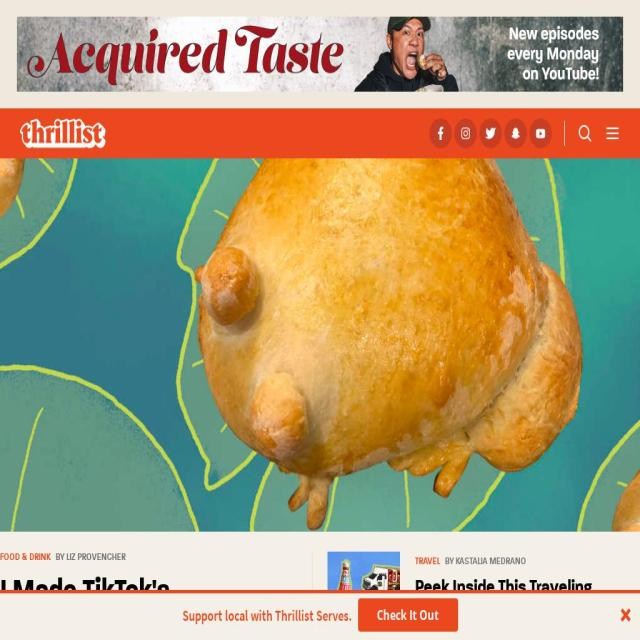button: (0, 590, 640, 640), (0, 572, 292, 640), (20, 110, 427, 157), (414, 575, 620, 640), (327, 551, 400, 640), (358, 598, 458, 632), (444, 552, 526, 566), (56, 552, 126, 562), (429, 118, 452, 148), (454, 118, 477, 148), (479, 118, 502, 148), (504, 118, 527, 148), (529, 118, 552, 148), (0, 552, 56, 562), (414, 552, 445, 566), (605, 124, 620, 144)
heading: (414, 575, 610, 640)
iframe: (17, 17, 623, 92)
image: (0, 593, 640, 640), (327, 551, 400, 640), (20, 110, 106, 157), (605, 124, 620, 144), (578, 124, 592, 144), (620, 608, 630, 622), (436, 127, 446, 140), (460, 127, 470, 140), (486, 127, 496, 140), (510, 127, 520, 140), (536, 127, 546, 140)
text: (0, 572, 292, 640), (182, 603, 352, 627), (444, 556, 526, 566), (56, 552, 126, 562), (0, 552, 51, 562), (414, 556, 440, 566)
